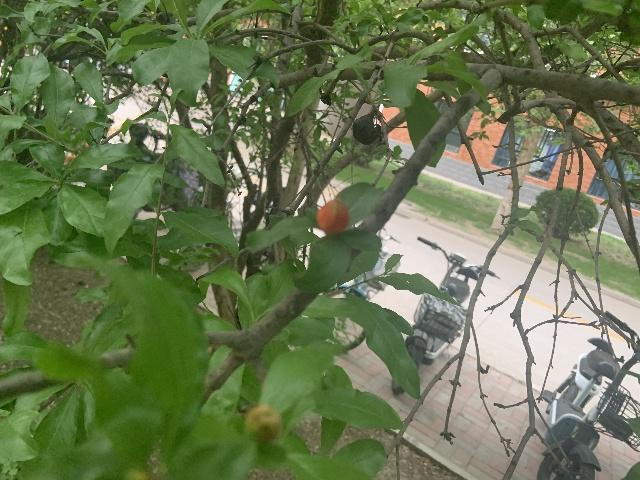bud: (244, 404, 283, 447), (316, 198, 350, 235)
